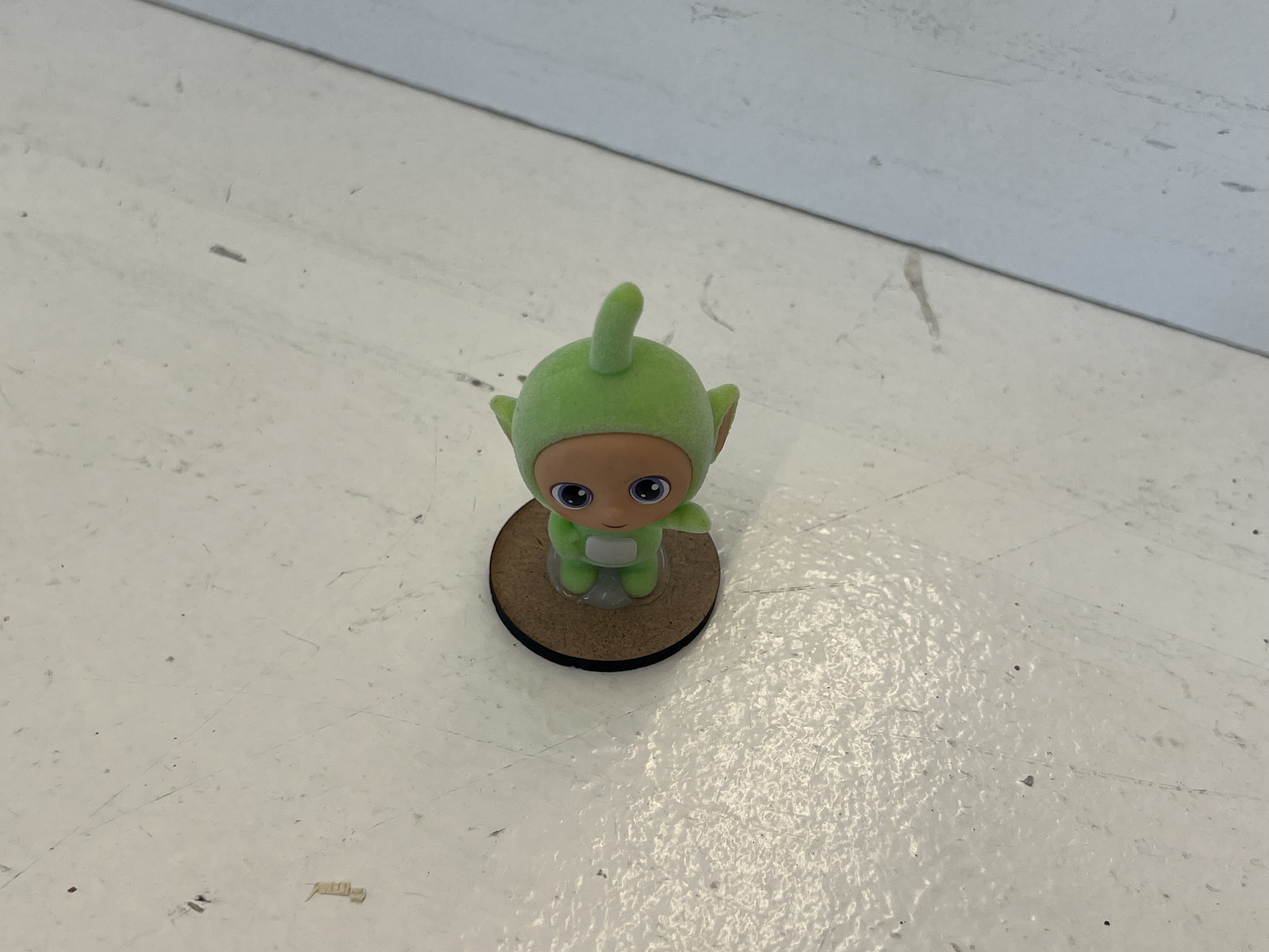teletubby: (491, 283, 738, 598)
